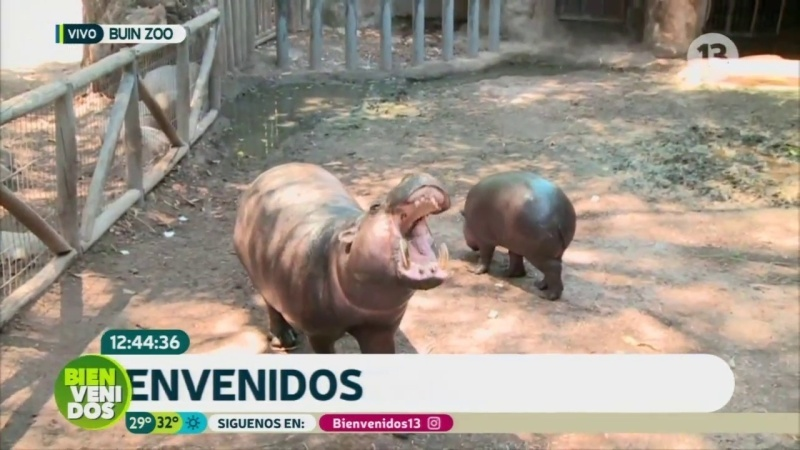hipopotamo: (221, 150, 459, 351), (454, 152, 600, 317)
